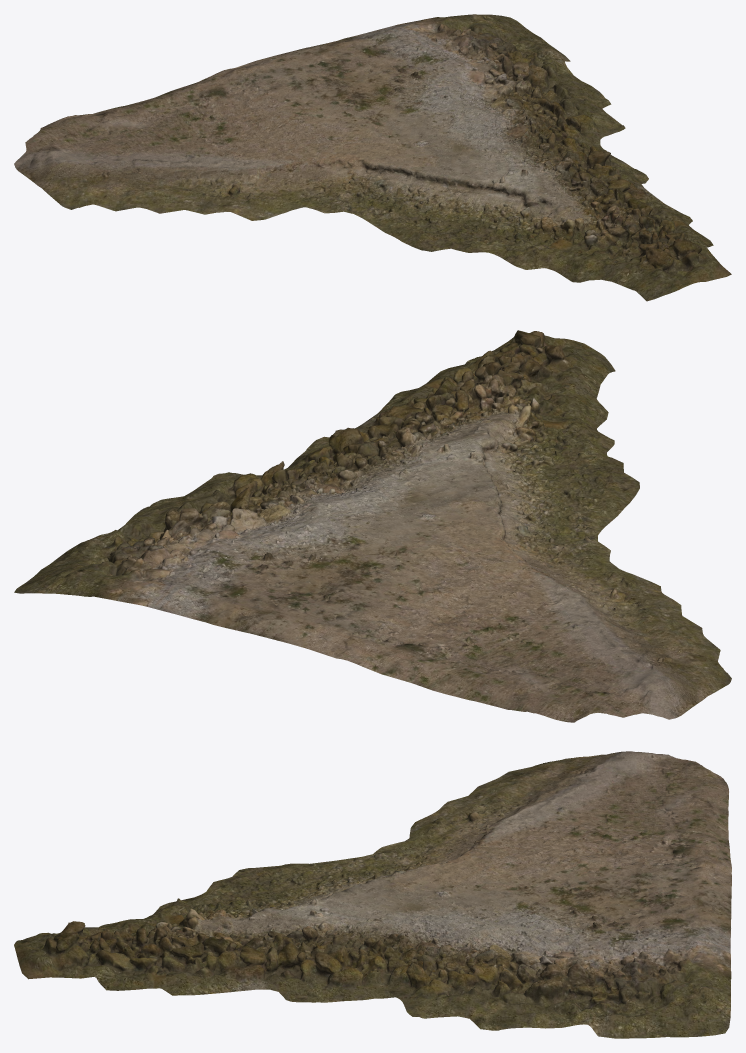
Rendered from coast.glb.
3 views of the same model, one above another, from view 1: azimuth 30°, elevation 25°; view 2: azimuth 150°, elevation 25°; view 3: azimuth 270°, elevation 25° (orthographic). The views are drawn at different scales.
Visible parts, largest first — view 1: coast_rocks_02; view 2: coast_rocks_02; view 3: coast_rocks_02.
Part boxes in pixels (left/top/right/bottom): coast_rocks_02: left=14, top=14, right=731, bottom=301; coast_rocks_02: left=14, top=330, right=731, bottom=722; coast_rocks_02: left=14, top=751, right=731, bottom=1038.
Bounding box in the file's own units: 45.96 × 3.16 × 49.46.
Materials: 1 (1 with a texture image).
